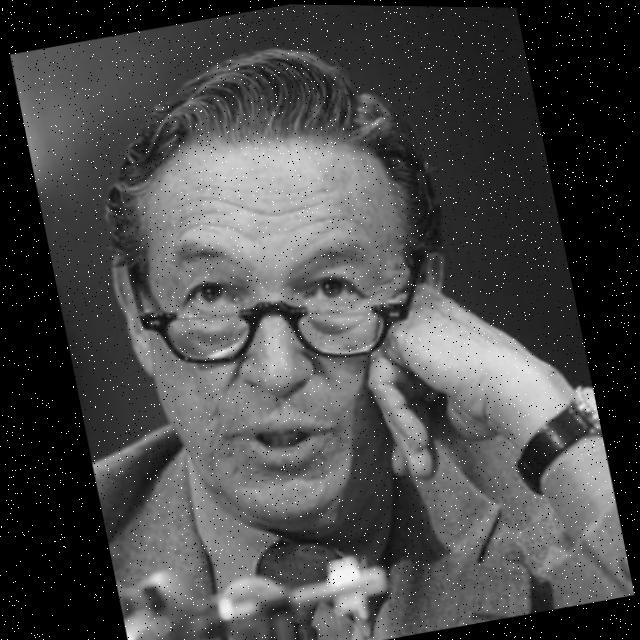face: (75, 90, 488, 570)
